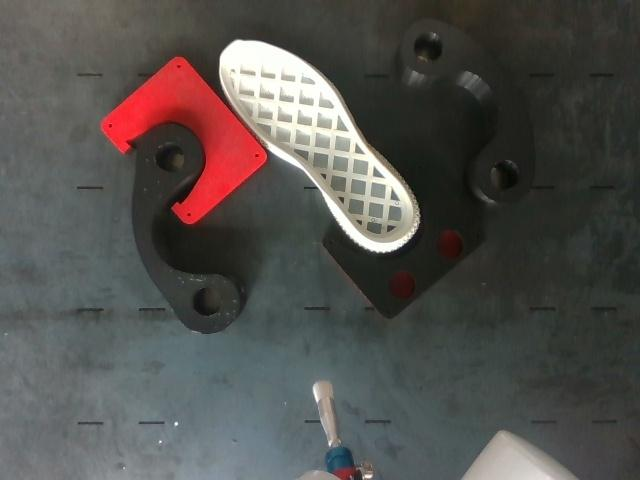shoes: (220, 41, 415, 245)
